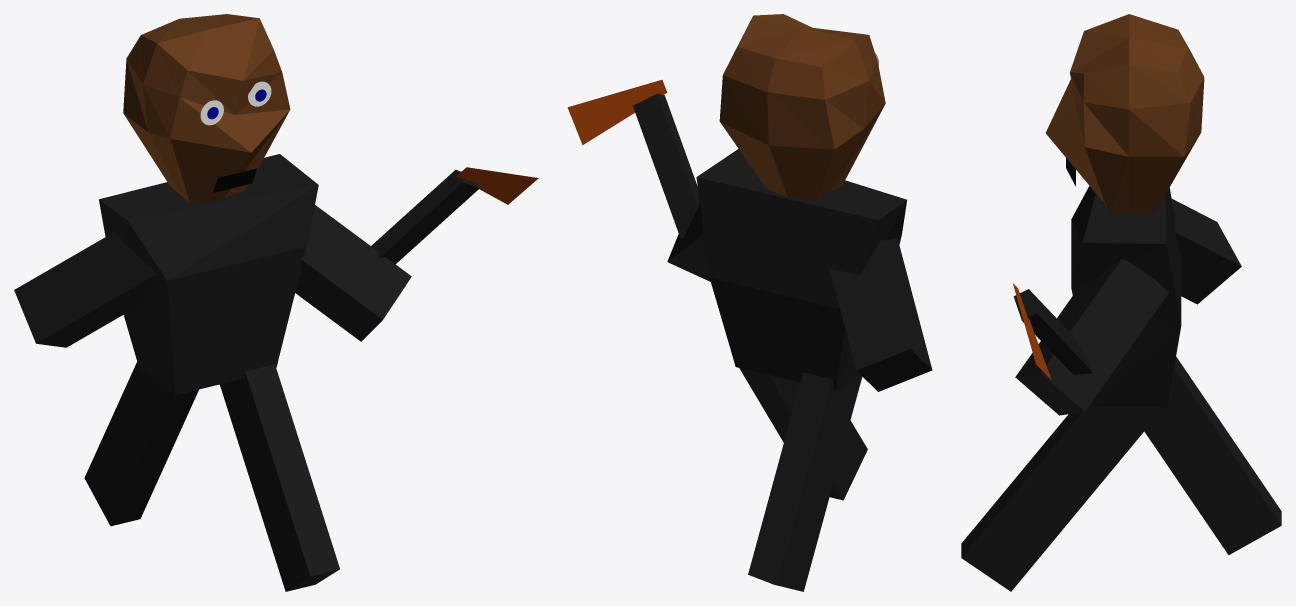
The model's file is axeman3.obj.
3 views of the same model, side by side, from view 1: azimuth 30°, elevation 25°; view 2: azimuth 150°, elevation 25°; view 3: azimuth 270°, elevation 25° (orthographic).
Visible parts, largest first — view 1: Cube.001, Cube, Cube.005, Cube.004, Cube.003, Cube.002, Cube.007, Plane.001; view 2: Cube.001, Cube, Cube.004, Cube.003, Cube.007, Cube.005, Plane.001, Cube.002; view 3: Cube, Cube.005, Cube.001, Cube.004, Cube.002, Cube.003, Cube.007, Plane.001.
Boxes of the visible parts, x1,y1,x2,y2 form: Cube.001: [99, 154, 318, 395]; Cube: [123, 14, 290, 203]; Cube.005: [219, 364, 339, 591]; Cube.004: [84, 362, 198, 526]; Cube.003: [14, 232, 156, 347]; Cube.002: [295, 205, 411, 341]; Cube.007: [371, 169, 479, 264]; Plane.001: [456, 167, 538, 204]; Cube.001: [696, 149, 906, 391]; Cube: [719, 14, 885, 200]; Cube.004: [748, 372, 862, 591]; Cube.003: [829, 238, 932, 391]; Cube.007: [633, 93, 699, 239]; Cube.005: [739, 368, 867, 500]; Plane.001: [567, 80, 667, 144]; Cube.002: [667, 201, 710, 281]; Cube: [1045, 14, 1204, 213]; Cube.005: [961, 400, 1163, 591]; Cube.001: [1071, 186, 1181, 407]; Cube.004: [1144, 356, 1281, 554]; Cube.002: [1015, 258, 1168, 415]; Cube.003: [1171, 199, 1241, 304]; Cube.007: [1013, 289, 1092, 374]; Plane.001: [1013, 283, 1051, 379].
Size of the model in its own units: 5.03 by 5.79 by 3.17.
